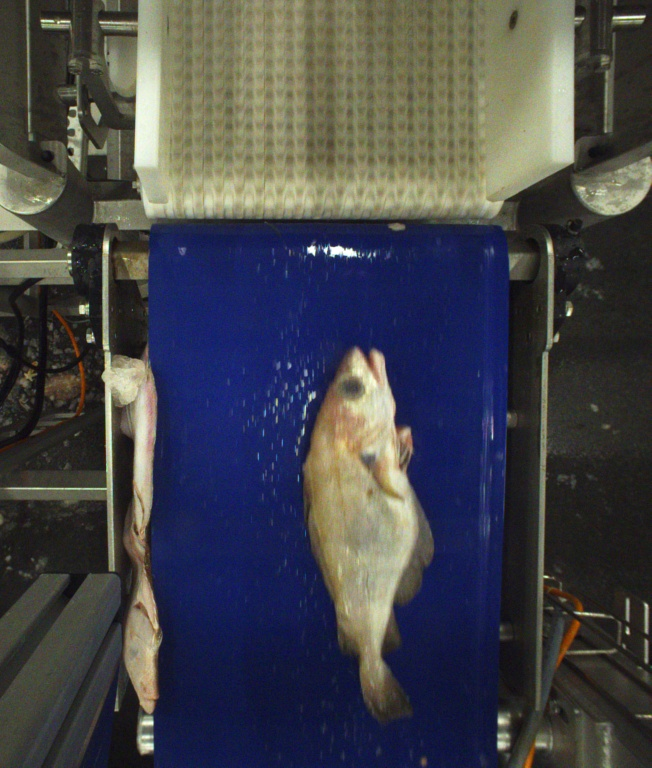BIB: (299, 346, 432, 723)
